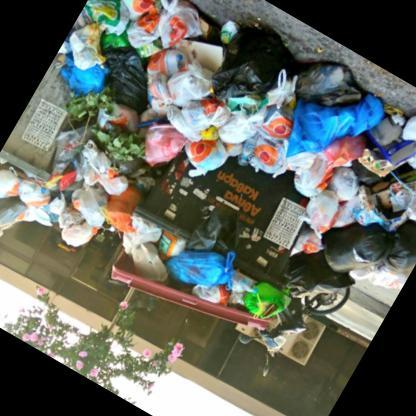Garbage: (111, 0, 408, 214), (21, 0, 229, 183), (107, 205, 282, 326), (42, 110, 158, 230), (0, 158, 103, 289), (319, 170, 415, 296)
